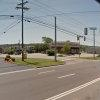Traffic light: (80, 26, 90, 42)
